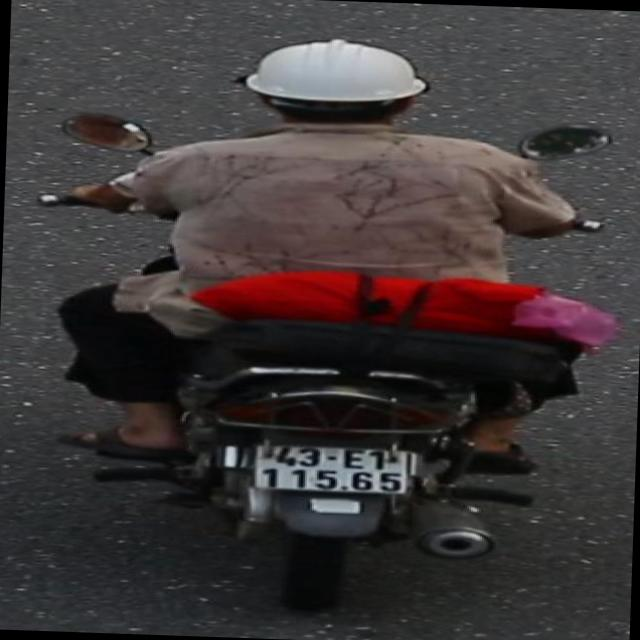LP: (242, 438, 426, 503)
helmet: (241, 31, 435, 140)
